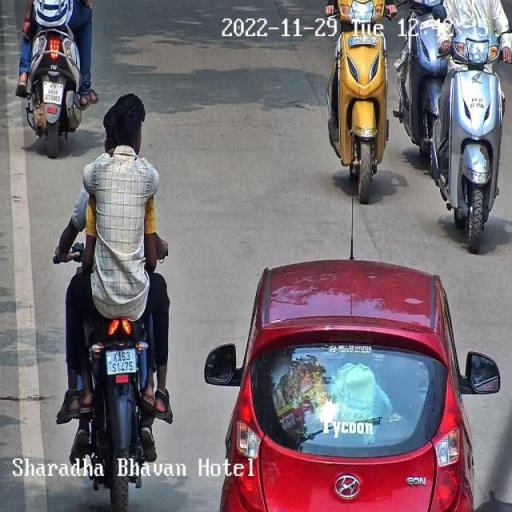tripple riding: (54, 90, 176, 325)
